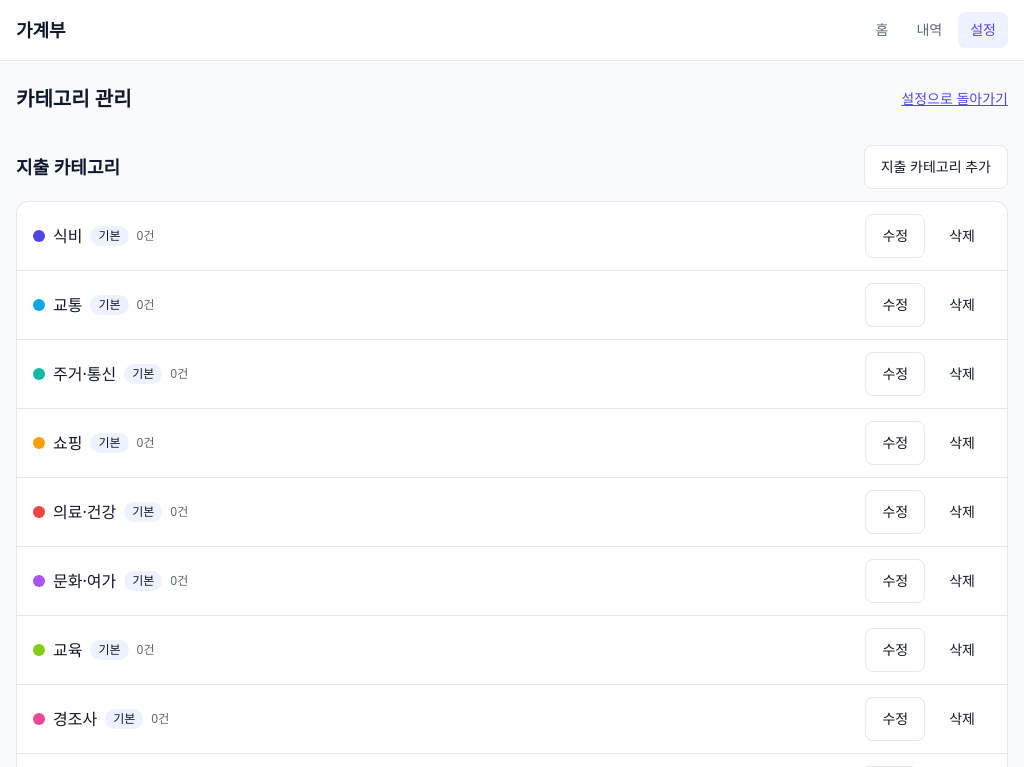
Scenario: 카테고리 변경 실패 › 추가 중 저장에 실패하면 오류 알림을 보여 주고 폼을 유지한다
The image size is (1024, 767).
Expected: the heading "카테고리 관리" is shown, [16,85,132,113]
Click the button "지출 카테고리 추가" at (936, 167), box [864,145,1008,189]
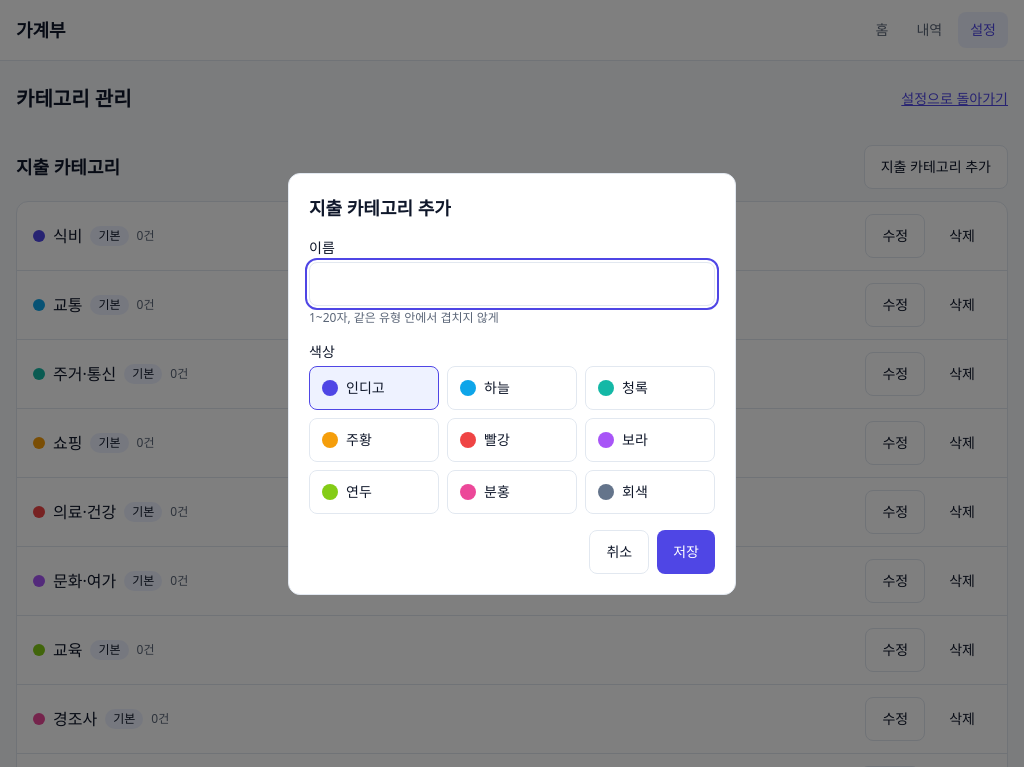
Type "반려동물" into the field labelled "이름" at (512, 284), box [309,262,715,306]
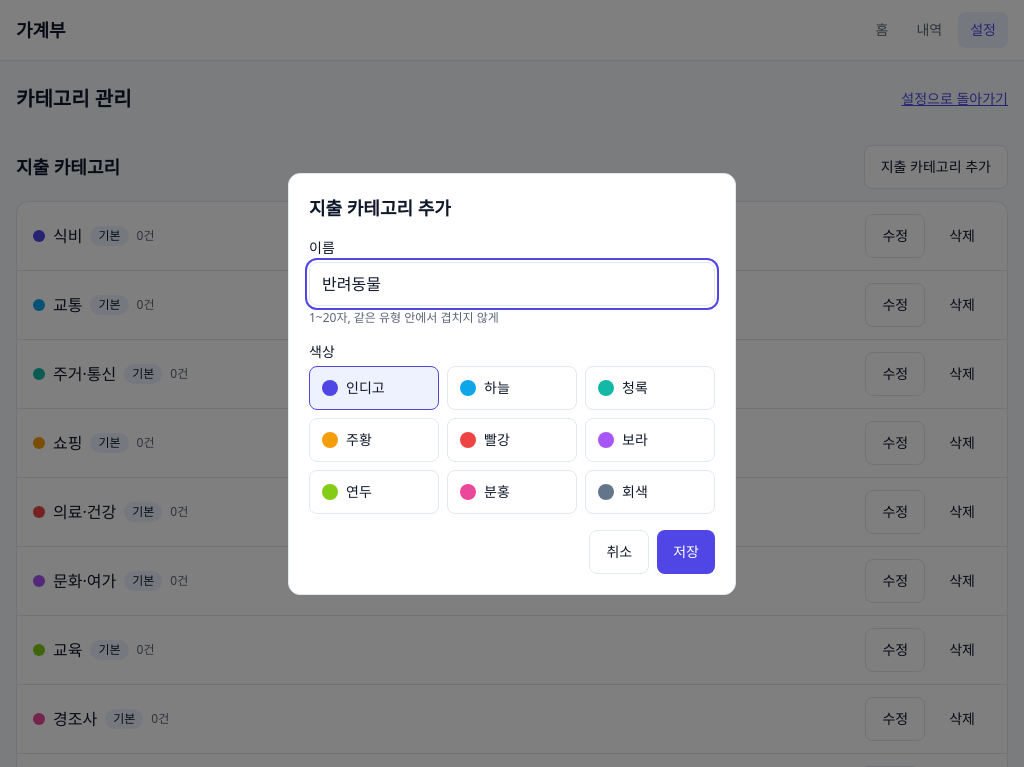
Click the button "저장" at (686, 552), box [657,530,715,574]
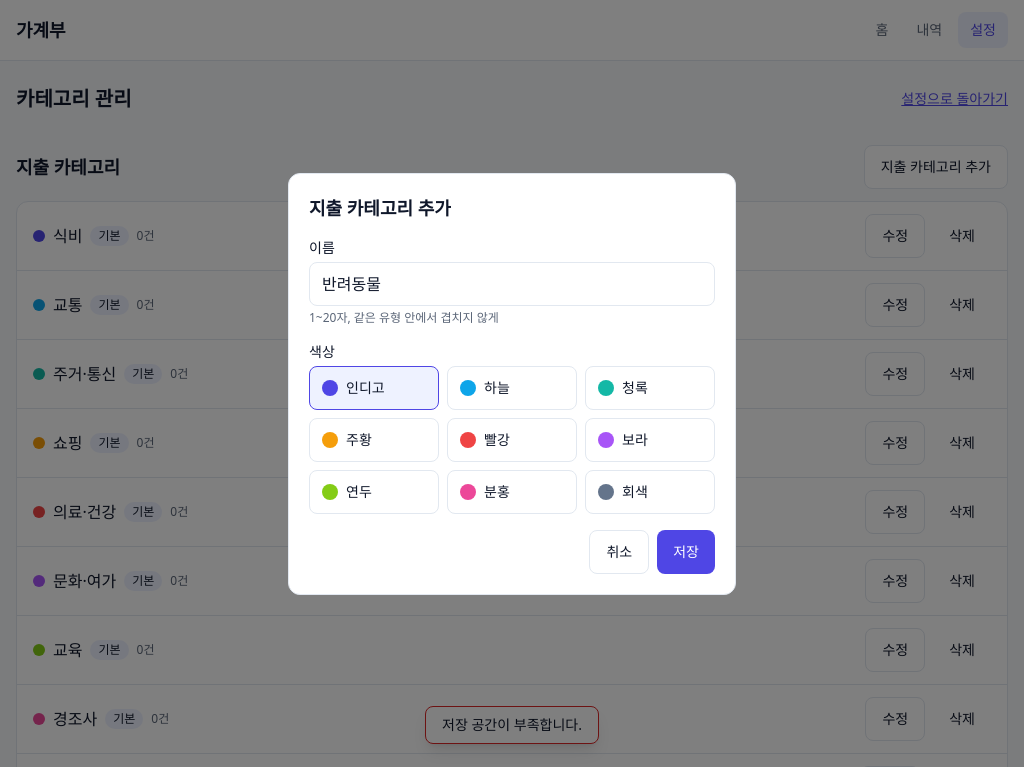
Result: the dialog "지출 카테고리 추가" is shown at [288,173,736,595]
Result: the message reads "저장 공간이 부족합니다." at [442,715,582,734]
